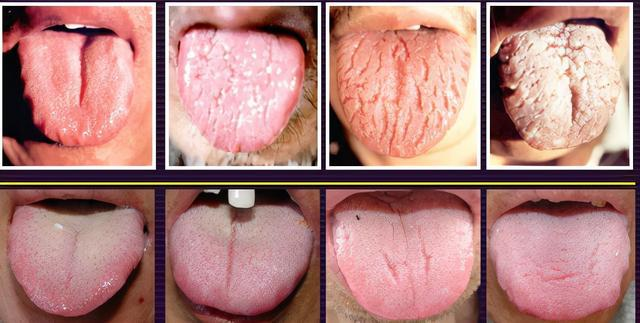chihenshe: (20, 55, 50, 138), (594, 247, 630, 311)
hongshe: (17, 30, 133, 146)
huangtaishe: (167, 204, 314, 316), (8, 206, 146, 317)
liewenshe: (347, 33, 450, 147), (187, 29, 277, 125), (513, 29, 585, 125), (376, 209, 434, 284), (73, 34, 96, 106), (224, 216, 238, 295), (532, 265, 582, 281)
zishe: (8, 206, 146, 317)
